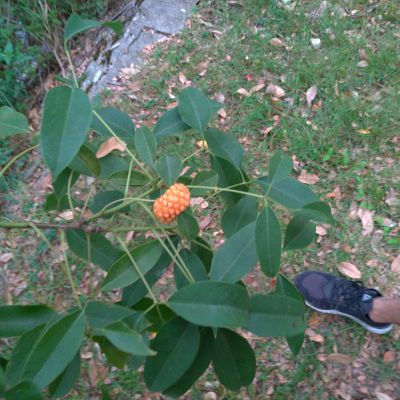eggs: (148, 181, 194, 219)
